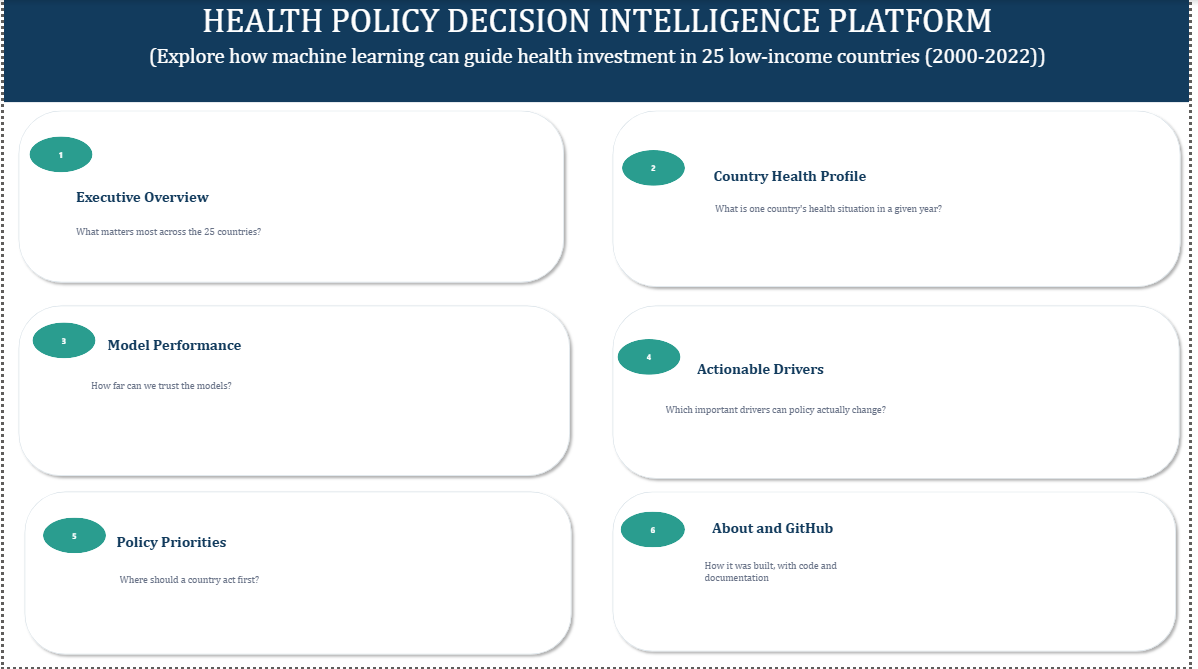

The dashboard page shown, as its layout file describes it:
{"tool":"powerbi","page":{"name":"Home","canvas":[1920,1080],"ordinal":0},"visuals":[{"type":"textbox","title":"HEALTH POLICY DECISION INTELLIGENCE PLATFORM","box":[0,0,1921.2,165.2],"z":0},{"type":"shape","box":[14.6,170,901.1,296.3],"z":0,"group":"g1"},{"type":"shape","box":[976.4,170,937.5,303.6],"z":0,"group":"g2"},{"type":"shape","box":[14.9,485.3,910.8,293.9],"z":0,"group":"g5"},{"type":"shape","box":[976.4,485.8,935.8,298.2],"z":0,"group":"g4"},{"type":"shape","box":[24.3,786.9,903.5,281.7],"z":0,"group":"g6"},{"type":"shape","box":[976.4,786.9,930.2,276.9],"z":0,"group":"g3"},{"type":"group","id":"g1","title":"Group 1","box":[14.6,170,901.1,296.3],"z":1000},{"type":"shape","box":[42.4,221,102,58],"z":1000,"group":"g1"},{"type":"shape","box":[999.7,242.8,102,58],"z":1000,"group":"g2"},{"type":"shape","box":[47.2,521.8,102,58],"z":1000,"group":"g5"},{"type":"shape","box":[992.4,549.5,102,58],"z":1000,"group":"g4"},{"type":"shape","box":[997.2,828,104.5,58.3],"z":1000,"group":"g3"},{"type":"shape","box":[62.5,838,102,58],"z":1000,"group":"g6"},{"type":"group","id":"g2","title":"Group 1","box":[976.4,170,937.5,303.6],"z":2000},{"type":"textbox","box":[1145.5,323,709.2,75.3],"z":2000,"group":"g2"},{"type":"textbox","box":[110.7,359.5,716.8,83.3],"z":2000,"group":"g1"},{"type":"textbox","box":[136.6,608.3,716.4,57.7],"z":2000,"group":"g5"},{"type":"textbox","box":[1067.3,649.7,755.7,83.9],"z":2000,"group":"g4"},{"type":"textbox","box":[1129,900.9,330.8,60.7],"z":2000,"group":"g3"},{"type":"textbox","box":[181.5,923,485.3,68.4],"z":2000,"group":"g6"},{"type":"textbox","box":[1143,264.7,667.9,55.9],"z":3000,"group":"g2"},{"type":"textbox","box":[110.7,298.8,623.8,60.6],"z":3000,"group":"g1"},{"type":"textbox","box":[164,537.8,596.1,67.3],"z":3000,"group":"g5"},{"type":"textbox","box":[1118.5,577.3,608,72.4],"z":3000,"group":"g4"},{"type":"group","id":"g3","title":"Group 1","box":[976.4,786.9,930.2,276.9],"z":3000},{"type":"textbox","box":[1141.5,835.3,278.6,48.6],"z":3000,"group":"g3"},{"type":"textbox","box":[176.6,857.5,389,64.8],"z":3000,"group":"g6"},{"type":"group","id":"g4","title":"Group 1","box":[976.4,485.8,935.8,298.2],"z":4000},{"type":"group","id":"g5","title":"Group 1","box":[14.9,485.3,910.8,293.9],"z":5000},{"type":"group","id":"g6","title":"Group 1","box":[24.3,786.9,903.5,281.7],"z":6000},{"type":"actionButton","box":[24.3,172.4,906,293.9],"z":7000},{"type":"actionButton","box":[976.4,172.4,937.5,303.6],"z":8000},{"type":"actionButton","box":[2.4,485.8,913.2,291.5],"z":9000},{"type":"actionButton","box":[24.3,784.5,906,296.3],"z":10000},{"type":"actionButton","box":[976.4,791.8,930.2,272],"z":11000},{"type":"actionButton","box":[978.8,483.3,935.1,293.9],"z":12000}]}

Visuals, with their boxes in screenshot pixels (x1, y1, x2, y2), scaled from the page's 1920x1080 canvas onto the 1198x669 screenshot:
"HEALTH POLICY DECISION INTELLIGENCE PLATFORM" textbox: (x1=0, y1=0, x2=1197, y2=102)
shape: (x1=9, y1=105, x2=571, y2=289)
shape: (x1=609, y1=105, x2=1194, y2=293)
shape: (x1=9, y1=301, x2=578, y2=483)
shape: (x1=609, y1=301, x2=1193, y2=486)
shape: (x1=15, y1=487, x2=579, y2=662)
shape: (x1=609, y1=487, x2=1190, y2=659)
"Group 1" group: (x1=9, y1=105, x2=571, y2=289)
shape: (x1=26, y1=137, x2=90, y2=173)
shape: (x1=624, y1=150, x2=687, y2=186)
shape: (x1=29, y1=323, x2=93, y2=359)
shape: (x1=619, y1=340, x2=683, y2=376)
shape: (x1=622, y1=513, x2=687, y2=549)
shape: (x1=39, y1=519, x2=103, y2=555)
"Group 1" group: (x1=609, y1=105, x2=1194, y2=293)
textbox: (x1=715, y1=200, x2=1157, y2=247)
textbox: (x1=69, y1=223, x2=516, y2=274)
textbox: (x1=85, y1=377, x2=532, y2=413)
textbox: (x1=666, y1=402, x2=1137, y2=454)
textbox: (x1=704, y1=558, x2=911, y2=596)
textbox: (x1=113, y1=572, x2=416, y2=614)
textbox: (x1=713, y1=164, x2=1130, y2=199)
textbox: (x1=69, y1=185, x2=458, y2=223)
textbox: (x1=102, y1=333, x2=474, y2=375)
textbox: (x1=698, y1=358, x2=1077, y2=402)
"Group 1" group: (x1=609, y1=487, x2=1190, y2=659)
textbox: (x1=712, y1=517, x2=886, y2=548)
textbox: (x1=110, y1=531, x2=353, y2=571)
"Group 1" group: (x1=609, y1=301, x2=1193, y2=486)
"Group 1" group: (x1=9, y1=301, x2=578, y2=483)
"Group 1" group: (x1=15, y1=487, x2=579, y2=662)
actionButton: (x1=15, y1=107, x2=580, y2=289)
actionButton: (x1=609, y1=107, x2=1194, y2=295)
actionButton: (x1=1, y1=301, x2=571, y2=481)
actionButton: (x1=15, y1=486, x2=580, y2=668)
actionButton: (x1=609, y1=490, x2=1190, y2=659)
actionButton: (x1=611, y1=299, x2=1194, y2=481)
